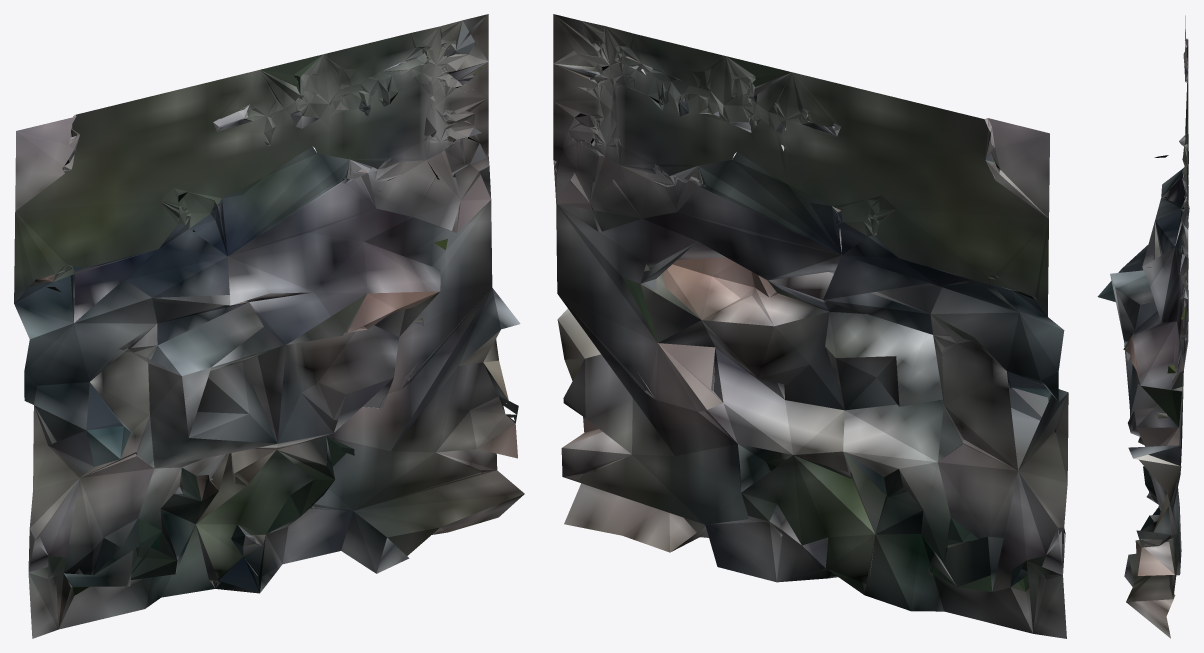
The model's file is Tile_+038_+020_L13.obj.
3 views of the same model, side by side, from view 1: azimuth 30°, elevation 25°; view 2: azimuth 150°, elevation 25°; view 3: azimuth 270°, elevation 25° (orthographic). The views are drawn at different scales.
Size of the model in its own units: 250 by 250 by 49.05.
Materials: 1 (1 with a texture image).
